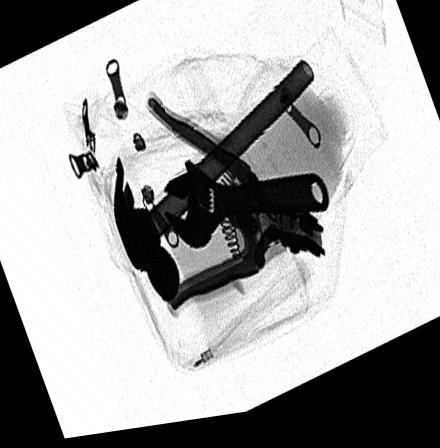Hammer: (109, 62, 319, 313)
Pliers: (143, 90, 326, 319)
Wrench: (161, 158, 331, 256)
